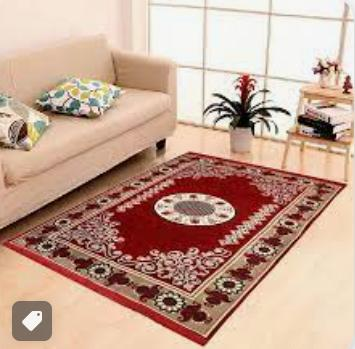carpet: (3, 61, 344, 349)
